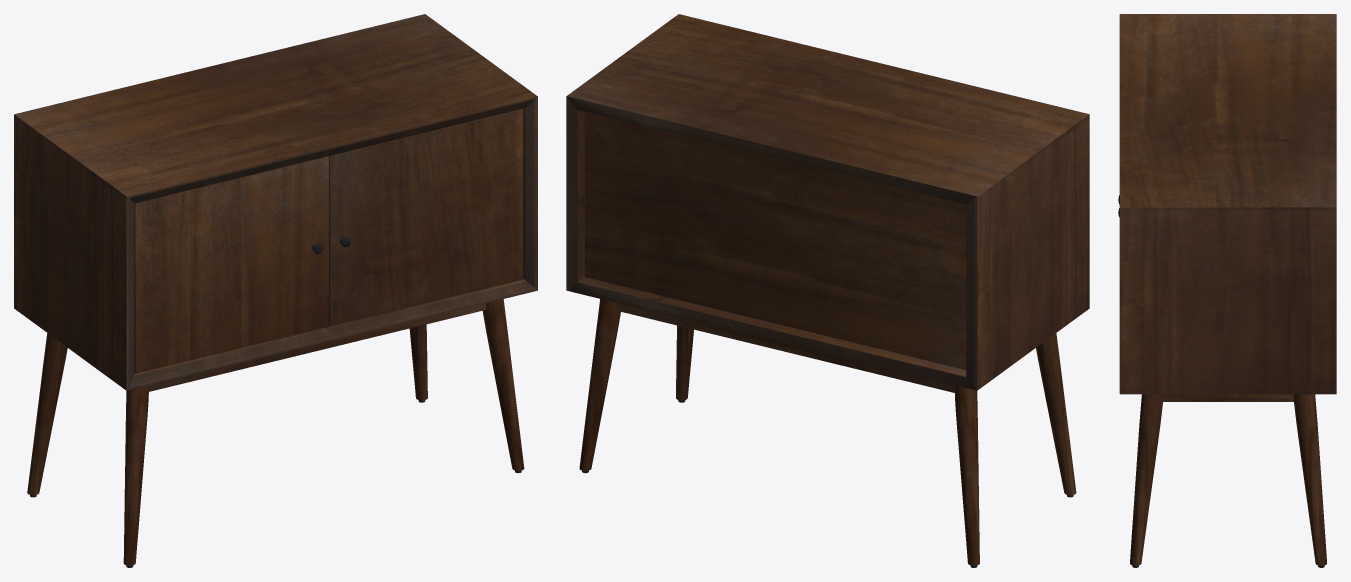
The picture shows the model from 3 angles, left to right: view 1: azimuth 30°, elevation 25°; view 2: azimuth 150°, elevation 25°; view 3: azimuth 270°, elevation 25°; orthographic projection. The views are drawn at different scales.
Parts seen in each view (by area): view 1: visual_RootNode; view 2: visual_RootNode; view 3: visual_RootNode.
Boxes of the visible parts, bbox=[...] form: visual_RootNode: bbox=[14, 14, 537, 567]; visual_RootNode: bbox=[566, 14, 1089, 567]; visual_RootNode: bbox=[1118, 14, 1336, 567].
Size of the model in its own units: 0.7435 by 0.3544 by 0.6539.
Materials: 1 (1 with a texture image).
